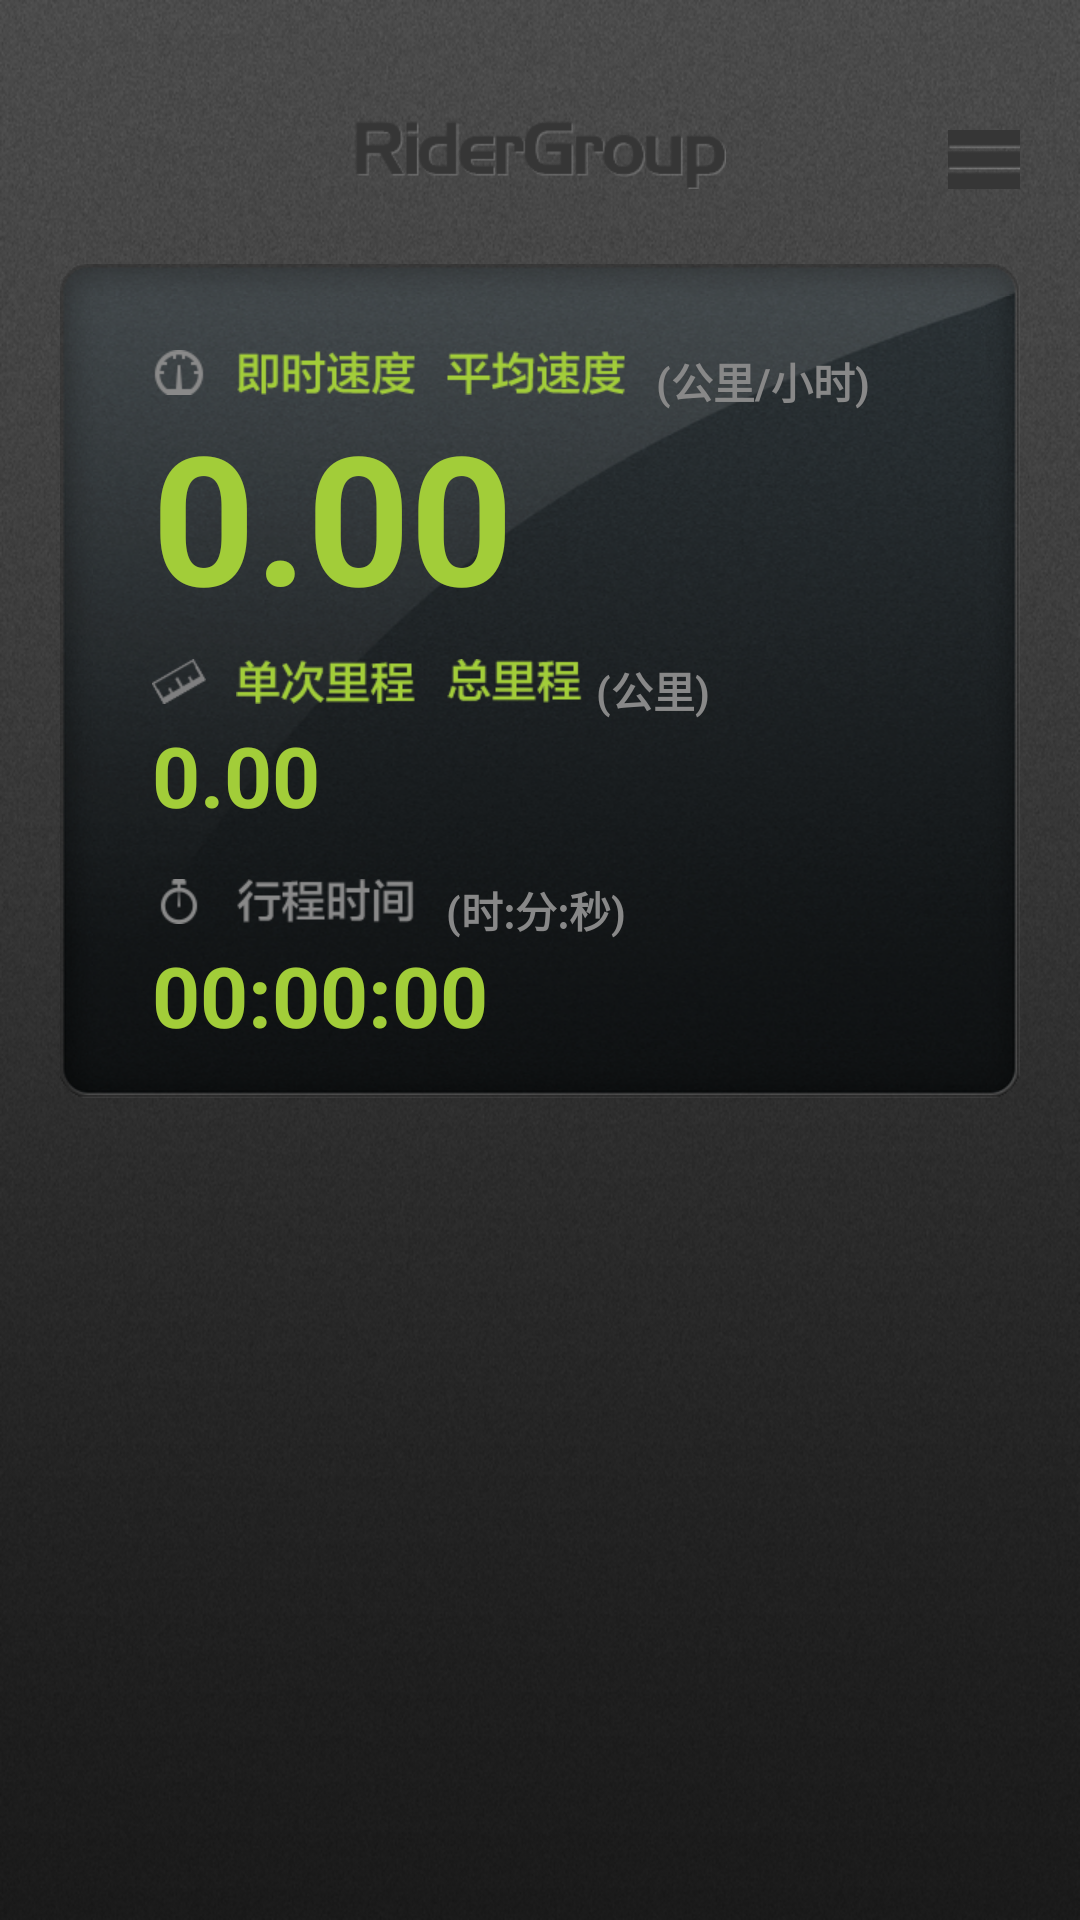

Screen size 1080px×1920px. Icon name, then its center in pixels as [x,y]:
menu: [984,159]
speed: [179,372]
time: [179,901]
